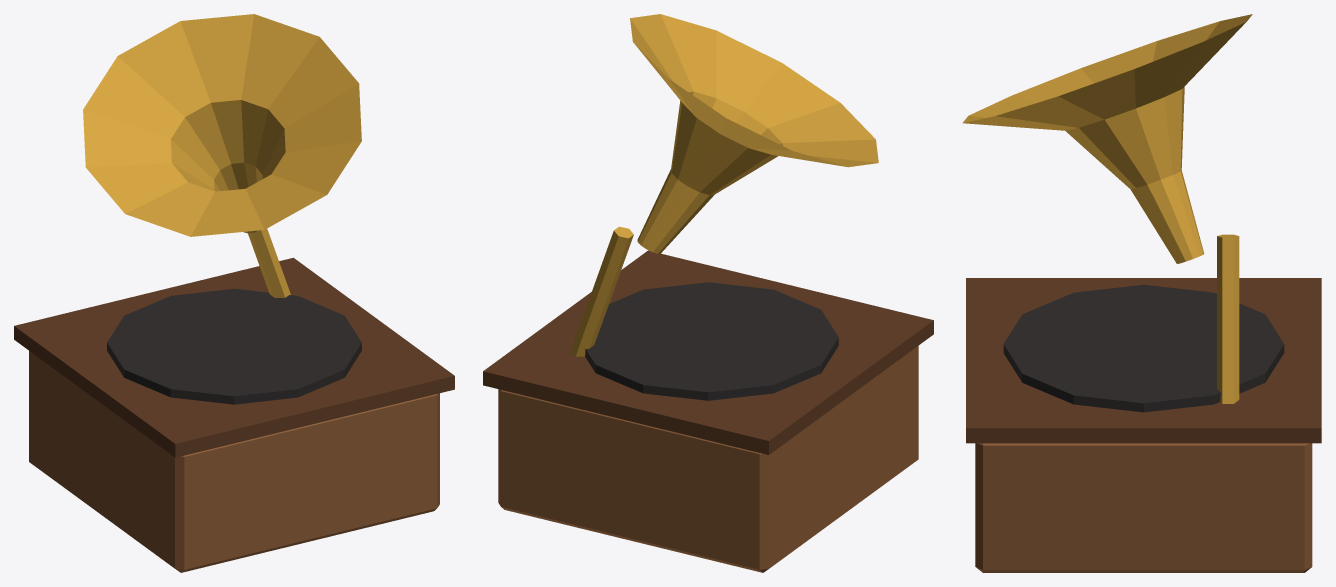
File: Gramophone.fbx
3 renders of one model, left to right at view 1: azimuth 30°, elevation 25°; view 2: azimuth 150°, elevation 25°; view 3: azimuth 270°, elevation 25°, orthographic. The views are drawn at different scales.
Visible parts, largest first — view 1: Gramophone; view 2: Gramophone; view 3: Gramophone.
Boxes of the visible parts, box(x1,y1,x2,y2) form: Gramophone: box(14, 14, 454, 572); Gramophone: box(483, 14, 933, 572); Gramophone: box(962, 14, 1321, 572).
Bounding box in the file's own units: 2 × 3 × 2.
